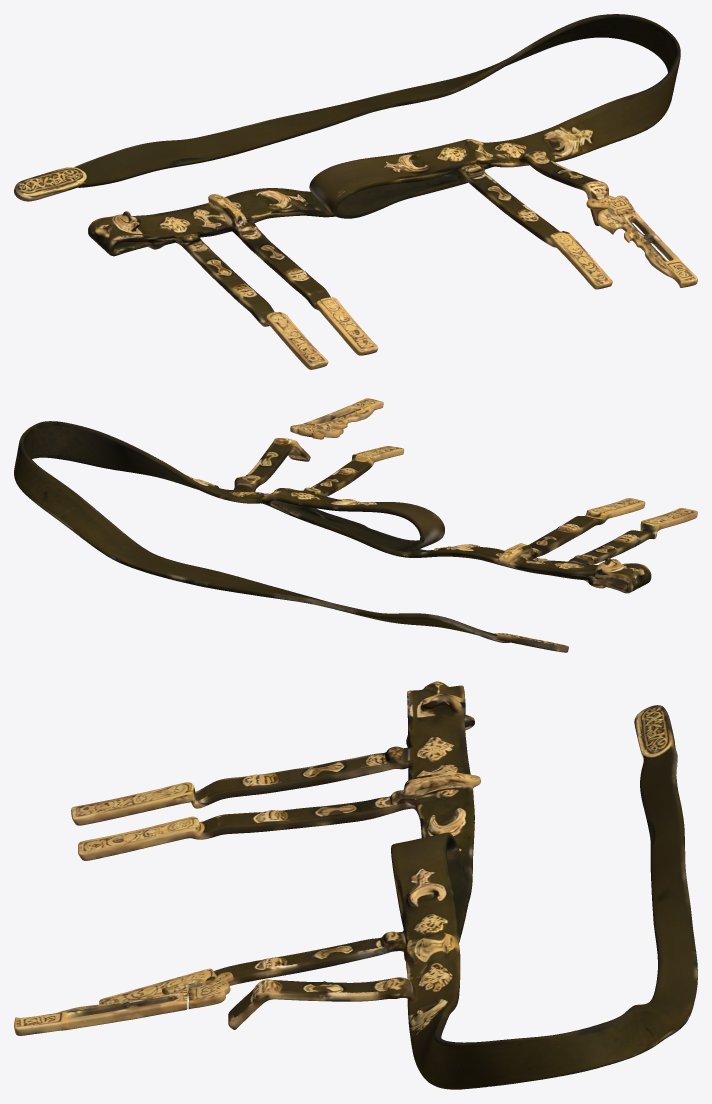
The model's file is 023-poyasnoy-nabor-voina-s-podvesami.glb.
3 views of the same model, one above another, from view 1: azimuth 30°, elevation 25°; view 2: azimuth 150°, elevation 25°; view 3: azimuth 270°, elevation 25° (orthographic). The views are drawn at different scales.
Parts seen in each view (by area): view 1: node_0; view 2: node_0; view 3: node_0.
Part boxes in pixels (x1,y1,x2,y2): node_0: [14, 14, 697, 369]; node_0: [14, 398, 697, 652]; node_0: [14, 681, 697, 1089].
Size of the model in its own units: 1.01 by 0.1458 by 0.7375.
1 material, 1 textured.
